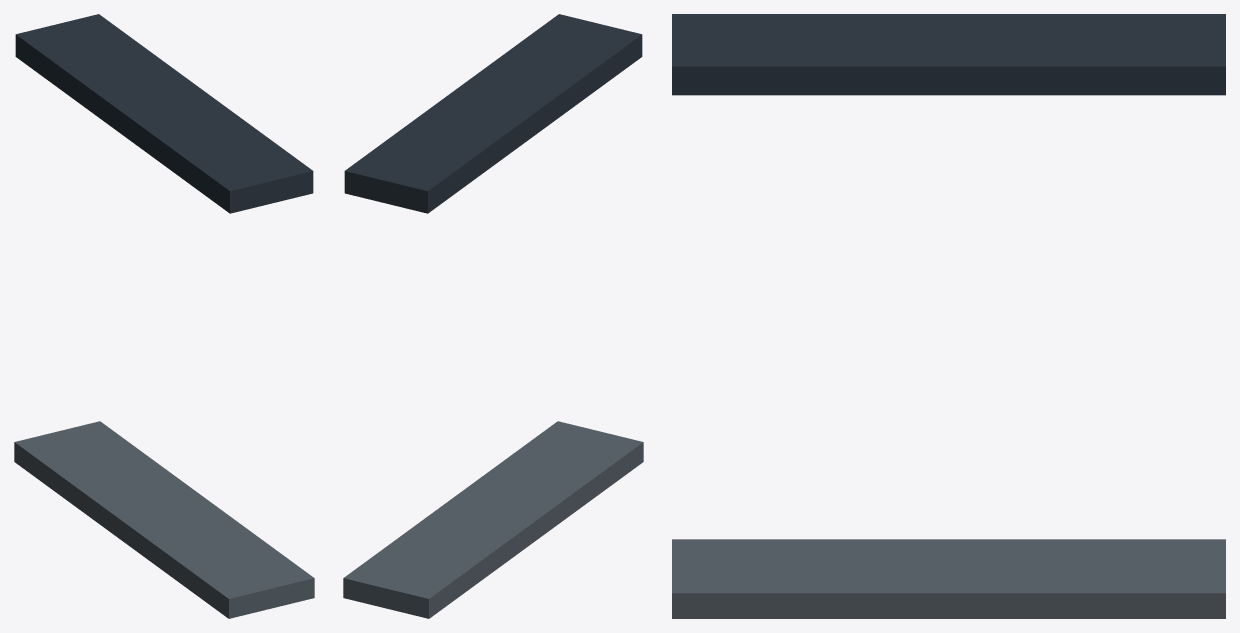
File: wall.half_3m.glb
3 renders of one model, left to right at view 1: azimuth 30°, elevation 25°; view 2: azimuth 150°, elevation 25°; view 3: azimuth 270°, elevation 25°, orthographic. The views are drawn at different scales.
Visible parts, largest first — view 1: top_trim, base_trim; view 2: top_trim, base_trim; view 3: top_trim, base_trim.
Part boxes in pixels (x1=…): top_trim: x1=15, y1=14, x2=313, y2=213; base_trim: x1=14, y1=421, x2=314, y2=618; top_trim: x1=344, y1=14, x2=642, y2=213; base_trim: x1=343, y1=421, x2=643, y2=618; top_trim: x1=672, y1=14, x2=1225, y2=95; base_trim: x1=672, y1=539, x2=1225, y2=618.
Size of what is drawn, in the model's own units: 0.72 by 3.43 by 3.12.
